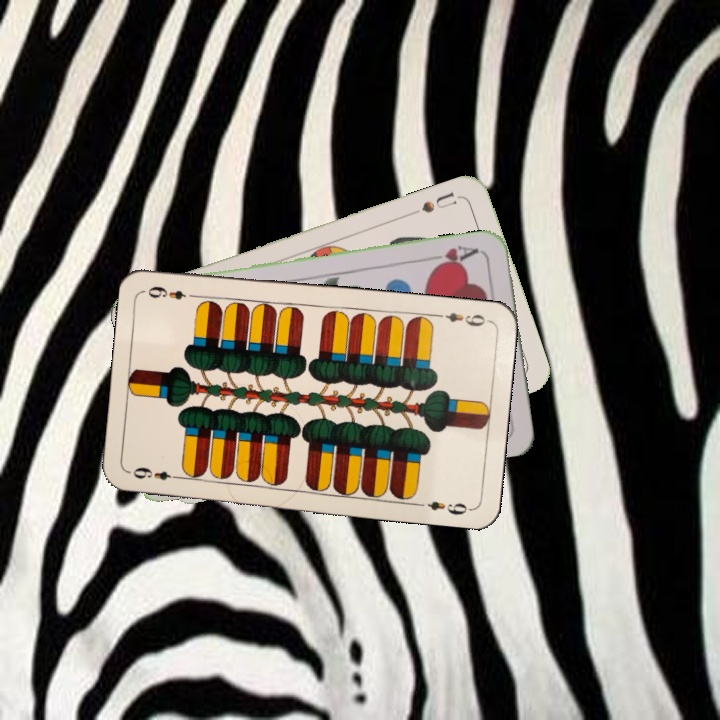E9: (433, 308, 492, 329), (129, 463, 185, 483)
HA: (425, 241, 484, 271)
SU: (407, 187, 465, 217)
